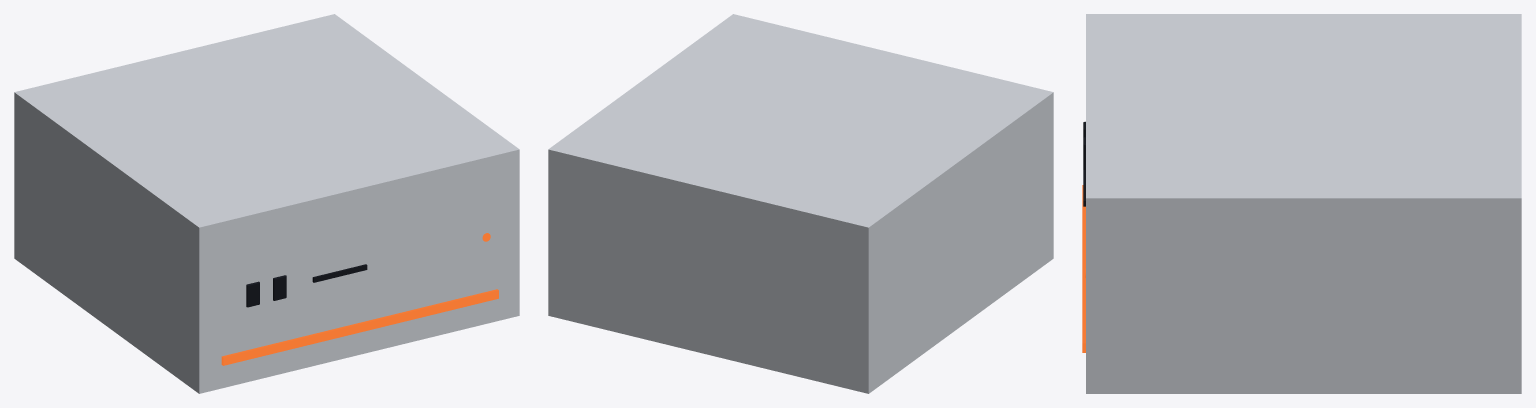
Rendered from studio.glb.
3 views of the same model, side by side, from view 1: azimuth 30°, elevation 25°; view 2: azimuth 150°, elevation 25°; view 3: azimuth 270°, elevation 25° (orthographic). The views are drawn at different scales.
Visible parts, largest first — view 1: body (×2), status; view 2: body (×2); view 3: body (×2), status.
Part boxes in pixels (x1,y1,x2,y2): body (×2): [14, 14, 519, 393]; status: [221, 289, 498, 365]; body (×2): [548, 14, 1053, 393]; body (×2): [1086, 14, 1521, 393]; status: [1082, 185, 1085, 352].
Size of the model in its own units: 2.4 by 1.19 by 2.42.
